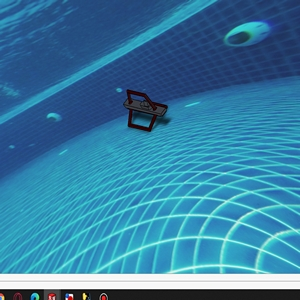submarine: (124, 91, 169, 138)
